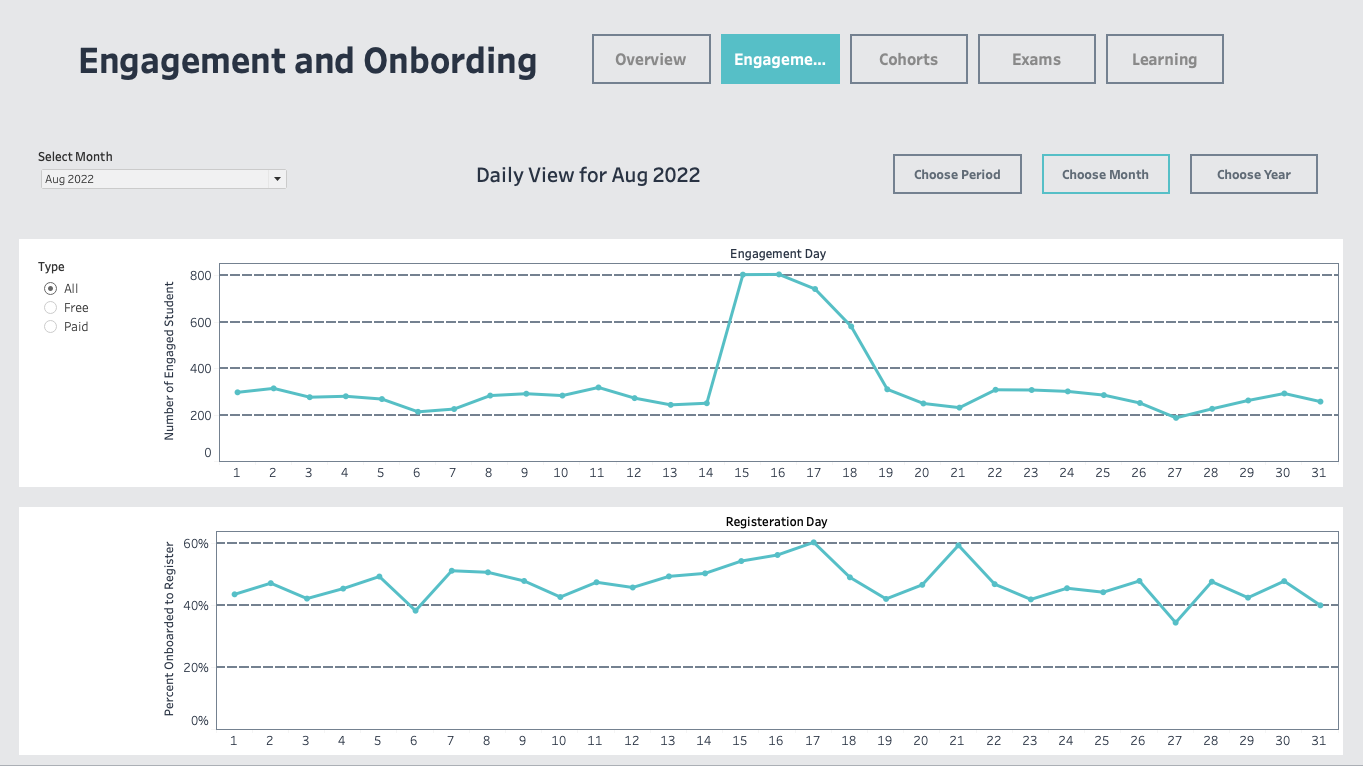

The dashboard page shown, as its layout file describes it:
{"tool":"tableau","page":{"name":"Engagement Month","canvas":[1366,768],"ordinal":2},"visuals":[{"type":"text","box":[36,26,548,70]},{"type":"dashboard-object","box":[589,31,129,60]},{"type":"dashboard-object","box":[718,31,129,60]},{"type":"dashboard-object","box":[847,31,128,60]},{"type":"dashboard-object","box":[975,31,128,60]},{"type":"dashboard-object","box":[1103,31,128,60]},{"type":"parameter","param":"[Parameters].[Parameter 5]","box":[36,146,260,60]},{"type":"text","box":[296,146,589,60]},{"type":"dashboard-object","box":[885,146,149,60]},{"type":"dashboard-object","box":[1034,146,148,60]},{"type":"dashboard-object","box":[1182,146,148,60]},{"type":"parameter","param":"[Parameters].[Student Type (copy)_11259033778130949]","box":[21,241,130,248]},{"type":"worksheet","title":"engagement day","mark":"Automatic","rows":["student_id"],"cols":["Calculation_81487040484814848","date_engaged"],"box":[151,241,1193.7,248]},{"type":"blank","box":[21,509,130,248]},{"type":"worksheet","title":"onborading day","mark":"Automatic","rows":["Calculation_11259033779355657"],"cols":["Calculation_81487040486027267","date_registered"],"box":[151,509,1193.6,248]}]}

Visuals, with their boxes in screenshot pixels (x1, y1, x2, y2), scaled from the page's 1366x768 canvas onto the 1363x767 screenshot:
text: pyautogui.locateOnScreen(36, 26, 583, 96)
dashboard-object: pyautogui.locateOnScreen(588, 31, 716, 91)
dashboard-object: pyautogui.locateOnScreen(716, 31, 845, 91)
dashboard-object: pyautogui.locateOnScreen(845, 31, 973, 91)
dashboard-object: pyautogui.locateOnScreen(973, 31, 1101, 91)
dashboard-object: pyautogui.locateOnScreen(1101, 31, 1228, 91)
parameter: pyautogui.locateOnScreen(36, 146, 295, 206)
text: pyautogui.locateOnScreen(295, 146, 883, 206)
dashboard-object: pyautogui.locateOnScreen(883, 146, 1032, 206)
dashboard-object: pyautogui.locateOnScreen(1032, 146, 1179, 206)
dashboard-object: pyautogui.locateOnScreen(1179, 146, 1327, 206)
parameter: pyautogui.locateOnScreen(21, 241, 151, 488)
"engagement day" worksheet: pyautogui.locateOnScreen(151, 241, 1342, 488)
blank: pyautogui.locateOnScreen(21, 508, 151, 756)
"onborading day" worksheet: pyautogui.locateOnScreen(151, 508, 1342, 756)
